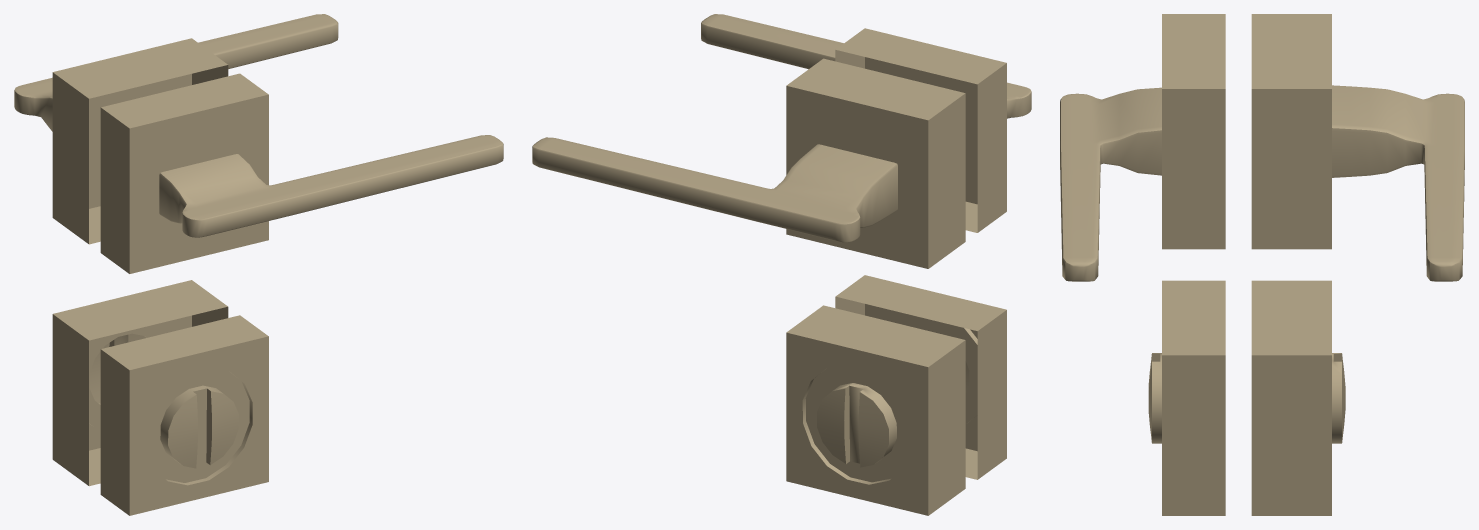
The model's file is 9_PREMIUM_BRNAK.glb.
3 views of the same model, side by side, from view 1: azimuth 30°, elevation 25°; view 2: azimuth 150°, elevation 25°; view 3: azimuth 270°, elevation 25° (orthographic). The views are drawn at different scales.
Visible parts, largest first — view 1: 9_PREMIUM_BRNAK; view 2: 9_PREMIUM_BRNAK; view 3: 9_PREMIUM_BRNAK.
Part boxes in pixels (x1,y1,x2,y2): 9_PREMIUM_BRNAK: (14, 14, 503, 515); 9_PREMIUM_BRNAK: (532, 14, 1031, 515); 9_PREMIUM_BRNAK: (1060, 14, 1464, 515).
Size of the model in its own units: 0.1176 by 0.1304 by 0.1121.
